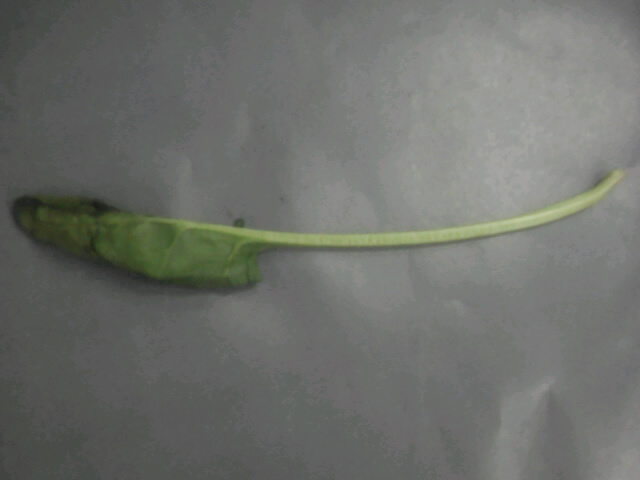yellow: (23, 138, 457, 317)
